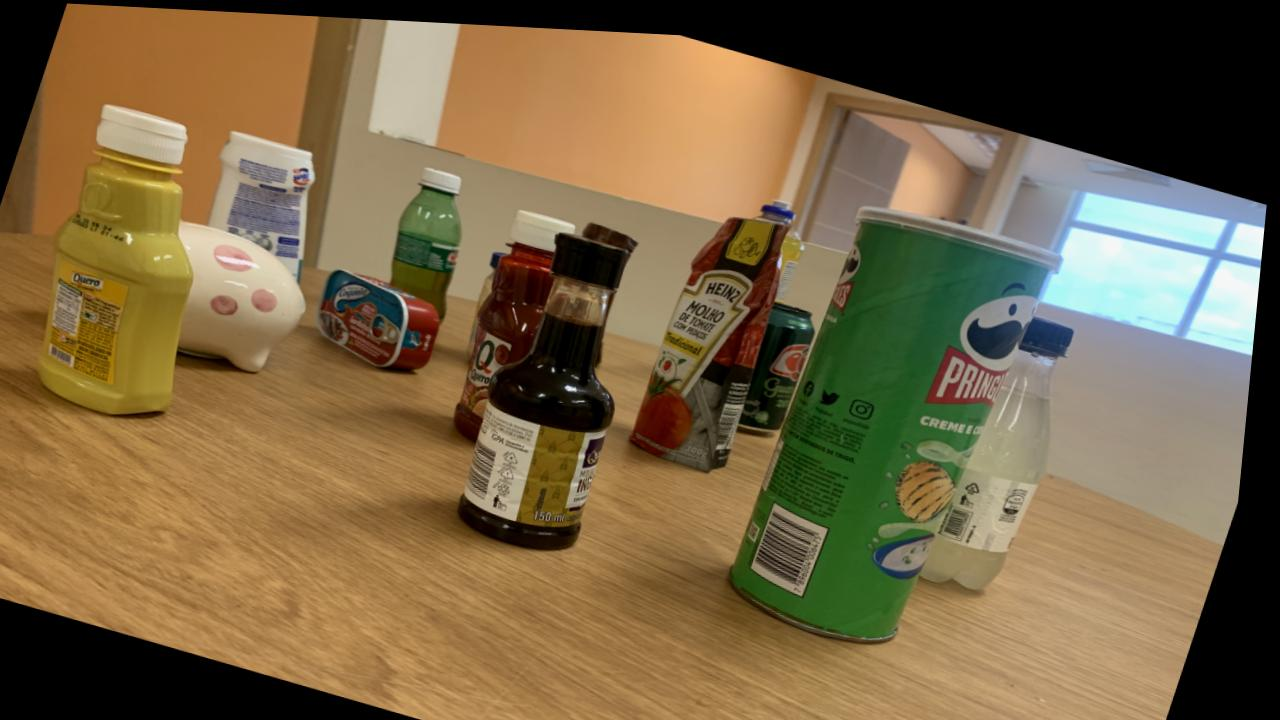Cleaner-Cleanup_Items: (212, 129, 317, 275)
Detergent-Cleanup_Items: (778, 219, 807, 293), (761, 190, 799, 217)
English_Sauce-Pantry_Items: (467, 227, 627, 543)
Guarana-Drinks: (394, 162, 466, 313)
Guarana_Can-Drinks: (745, 293, 820, 427)
Ketchup-Pantry_Items: (461, 205, 578, 434)
Mayonnaise-Pantry_Items: (472, 245, 510, 350)
Mustard-Pantry_Items: (44, 104, 198, 413)
Pig_Safe-Miscellaneous: (182, 219, 311, 369)
Pringles-Snacks: (740, 196, 1064, 632)
Soda-Drinks: (929, 304, 1078, 578)
Tomato_Sauce-Pantry_Items: (638, 208, 792, 463), (584, 216, 641, 248)
Tuna_Can-Pantry_Items: (322, 265, 444, 364)
